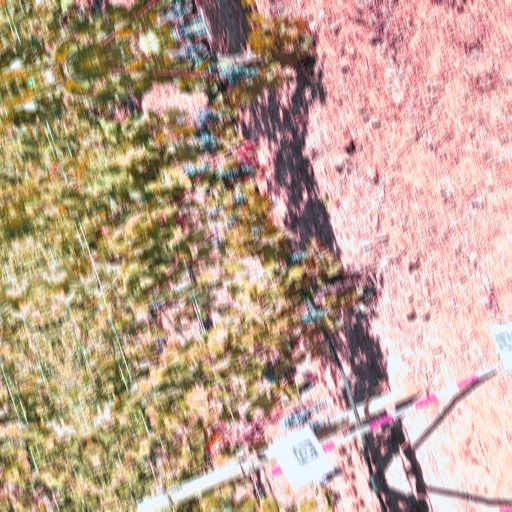QR: (292, 439, 321, 466), (493, 331, 512, 354)
